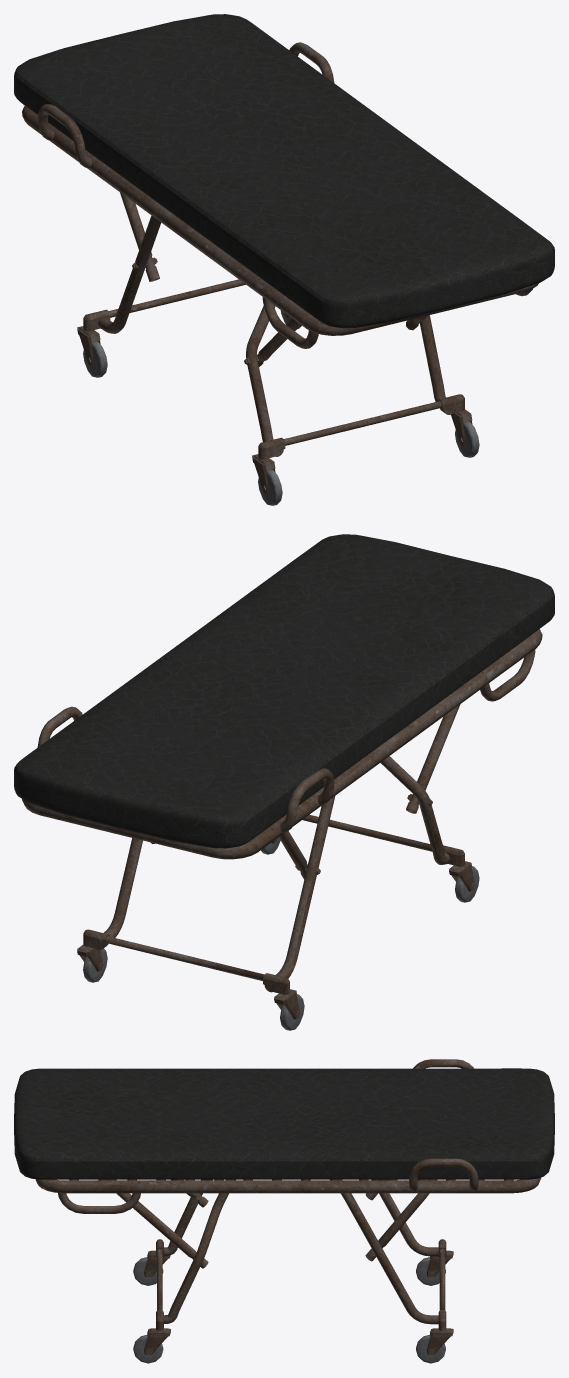
File: Flat_Gurney.fbx
3 renders of one model, top to bottom at view 1: azimuth 30°, elevation 25°; view 2: azimuth 150°, elevation 25°; view 3: azimuth 270°, elevation 25°, orthographic. The views are drawn at different scales.
Visible parts, largest first — view 1: Cube, Gurney Frame, Gurney Spring, Gurney Handels, Castor1, Castor1.003, Castor1.002; view 2: Cube, Gurney Frame, Gurney Spring, Gurney Handels, Castor1, Castor1.003, Castor1.001; view 3: Cube, Gurney Frame, Gurney Spring, Gurney Handels, Castor1.002, Castor1.001, Castor1, Castor1.003.
Part boxes in pixels (x1=…): Cube: x1=14, y1=14, x2=554, y2=328; Gurney Frame: x1=83, y1=192, x2=464, y2=459; Gurney Spring: x1=22, y1=106, x2=538, y2=335; Gurney Handels: x1=37, y1=42, x2=532, y2=348; Castor1: x1=77, y1=326, x2=107, y2=377; Castor1.003: x1=252, y1=454, x2=282, y2=505; Castor1.002: x1=450, y1=409, x2=479, y2=457; Cube: x1=14, y1=534, x2=554, y2=848; Gurney Frame: x1=83, y1=704, x2=464, y2=994; Gurney Spring: x1=22, y1=629, x2=542, y2=859; Gurney Handels: x1=37, y1=649, x2=535, y2=832; Castor1: x1=274, y1=989, x2=304, y2=1030; Castor1.003: x1=449, y1=861, x2=479, y2=902; Castor1.001: x1=77, y1=944, x2=107, y2=982; Cube: x1=14, y1=1068, x2=554, y2=1179; Gurney Frame: x1=108, y1=1179, x2=446, y2=1330; Gurney Spring: x1=35, y1=1177, x2=541, y2=1193; Gurney Handels: x1=58, y1=1059, x2=478, y2=1213; Castor1.002: x1=133, y1=1328, x2=170, y2=1363; Castor1.001: x1=416, y1=1328, x2=453, y2=1363; Castor1: x1=416, y1=1250, x2=453, y2=1285; Castor1.003: x1=133, y1=1250, x2=170, y2=1285.
Size of the model in its own units: 1.79 by 3.97 by 1.74.
